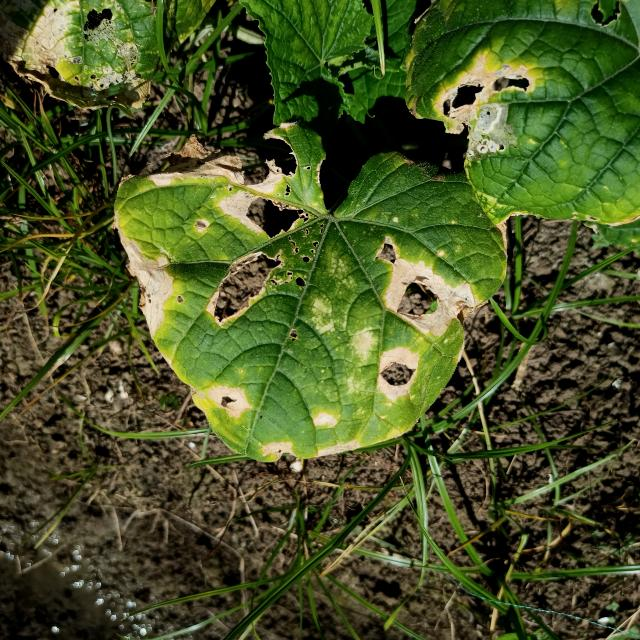disease_cucumber: (120, 154, 475, 467), (432, 55, 537, 140)
